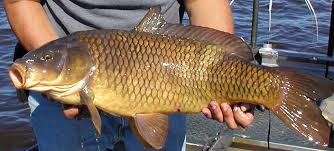carp: (9, 6, 332, 151)
